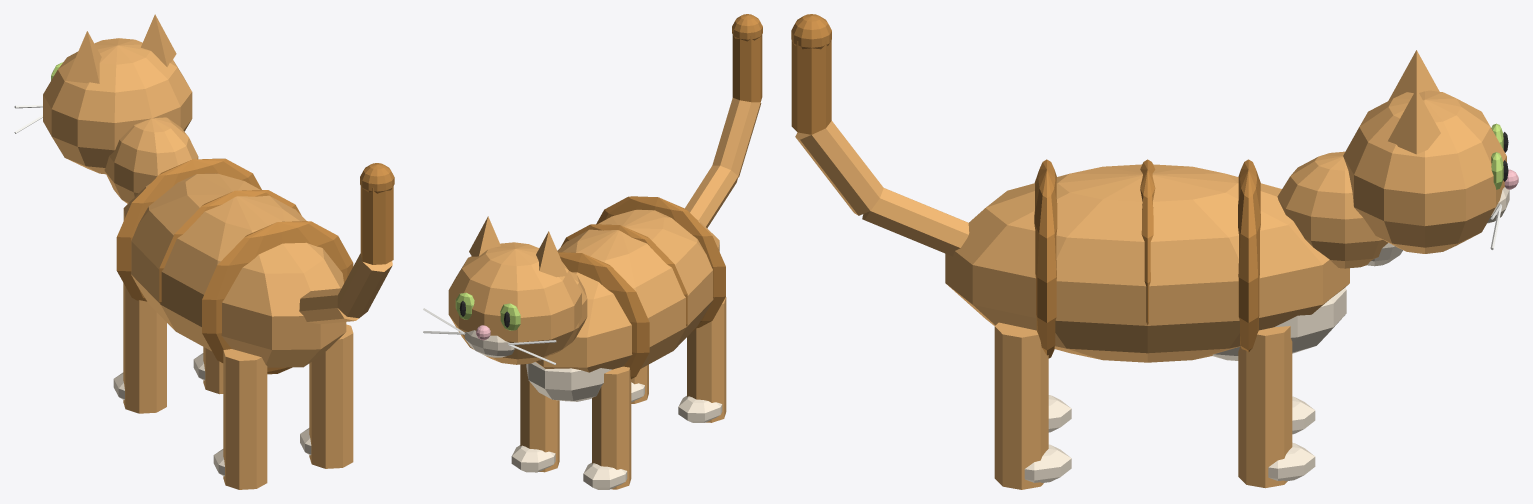
File: cat.glb
3 renders of one model, left to right at view 1: azimuth 30°, elevation 25°; view 2: azimuth 150°, elevation 25°; view 3: azimuth 270°, elevation 25°, orthographic. The views are drawn at different scales.
Visible parts, largest first — view 1: CatBody, CatHead, CatTail, LegBL, LegBR, LegFL, LegFR; view 2: CatBody, CatHead, CatTail, LegFL, LegBL, LegFR, LegBR; view 3: CatBody, CatHead, CatTail, LegBR, LegFR.
Boxes of the visible parts, x1,y1,x2,y2 form: CatBody: (116, 158, 353, 374); CatHead: (14, 14, 198, 203); CatTail: (299, 163, 394, 324); LegBL: (213, 349, 267, 489); LegBR: (300, 324, 353, 468); LegFL: (113, 283, 166, 413); LegFR: (193, 347, 223, 394); CatBody: (526, 196, 725, 401); CatHead: (423, 216, 587, 364); CatTail: (685, 14, 762, 228); LegFL: (583, 366, 631, 489); LegBL: (678, 297, 726, 422); LegFR: (511, 364, 559, 472); LegBR: (631, 364, 648, 403); CatBody: (945, 159, 1349, 362); CatHead: (1277, 50, 1518, 268); CatTail: (791, 14, 969, 256); LegBR: (994, 322, 1071, 489); LegFR: (1238, 326, 1315, 488).
Size of the model in its own units: 0.2452 by 0.5766 by 0.8661.
